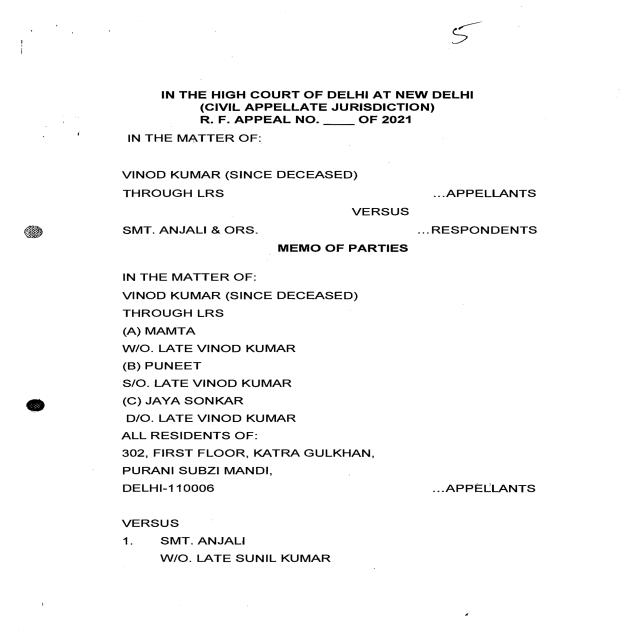page-number: (376, 6, 553, 68)
